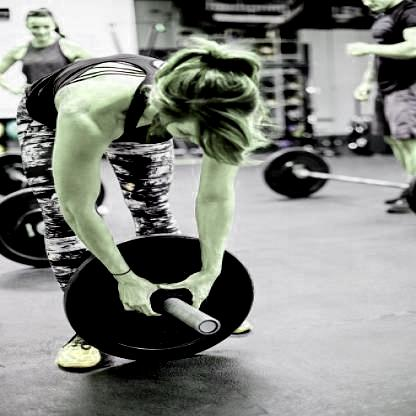Barbell: (193, 313, 229, 341)
